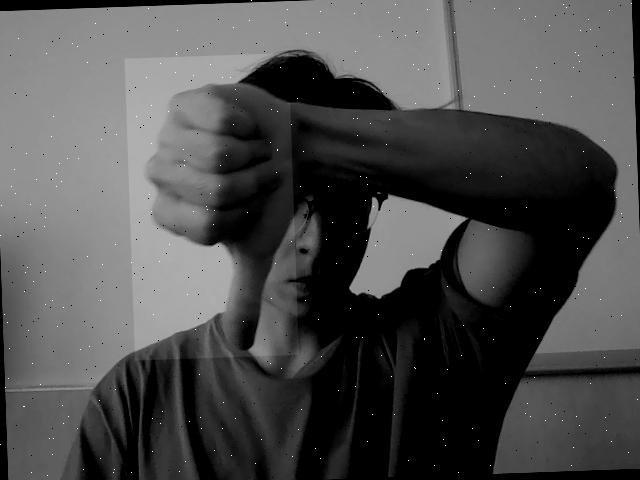bad: (125, 53, 299, 361)
